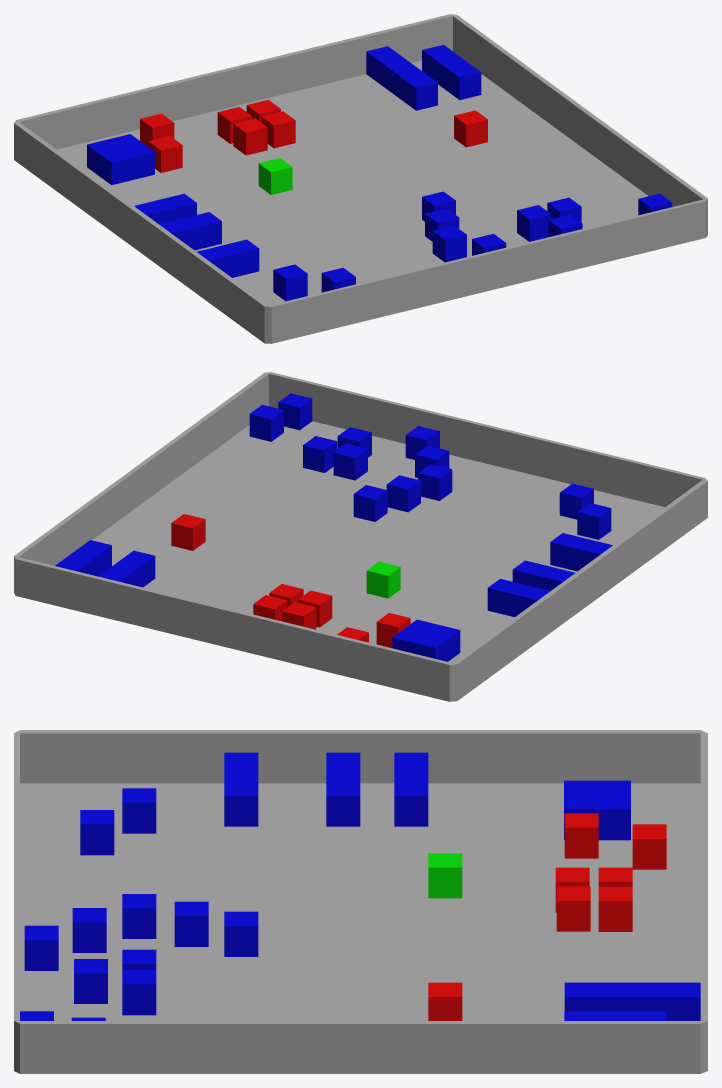
The model's file is testroom.fbx.
3 renders of one model, top to bottom at view 1: azimuth 30°, elevation 25°; view 2: azimuth 150°, elevation 25°; view 3: azimuth 270°, elevation 25°, orthographic. The views are drawn at different scales.
Parts seen in each view (by area): view 1: SM_base, pCube38, pCube29, pCube28, player, pCube8, pCube12, pCube24, pCube39, pCube5, pCube37, pCube33 (+22 smaller); view 2: SM_base, pCube2, pCube10, pCube12, pCube39, player, pCube5, pCube9, pCube8, pCube4, pCube1, pCube11 (+18 smaller); view 3: SM_base, pCube12, pCube15, pCube16, pCube19, pCube33, pCube34, pCube37, player, pCube4, pCube6, pCube9 (+16 smaller).
Boxes of the visible parts, x1,y1,x2,y2 form: SM_base: (14,14,707,343); pCube38: (233,118,267,155); pCube29: (403,73,437,110); pCube28: (447,63,481,99); player: (258,158,292,194); pCube8: (432,225,466,262); pCube12: (273,264,307,301); pCube24: (99,148,133,185); pCube39: (454,110,487,147); pCube5: (517,205,551,241); pCube37: (261,111,295,148); pCube33: (148,136,182,172); SM_base: (14,372,707,701); pCube2: (249,404,283,441); pCube10: (353,485,387,521); pCube12: (577,503,611,539); pCube39: (171,514,205,550); player: (366,561,400,598); pCube5: (333,443,367,480); pCube9: (386,475,420,512); pCube8: (418,464,452,500); pCube4: (303,436,337,472); pCube1: (278,393,312,430); pCube11: (559,483,593,519); SM_base: (14,730,707,1073); pCube12: (122,788,156,833); pCube15: (224,781,258,826); pCube16: (326,781,360,826); pCube19: (394,781,428,826); pCube33: (564,813,598,858); pCube34: (632,824,666,869); pCube37: (556,886,590,931); player: (428,853,462,898); pCube4: (122,970,156,1015); pCube6: (24,925,58,970); pCube9: (174,901,208,946).
Size of the model in its own units: 2044 by 162 by 2040.
